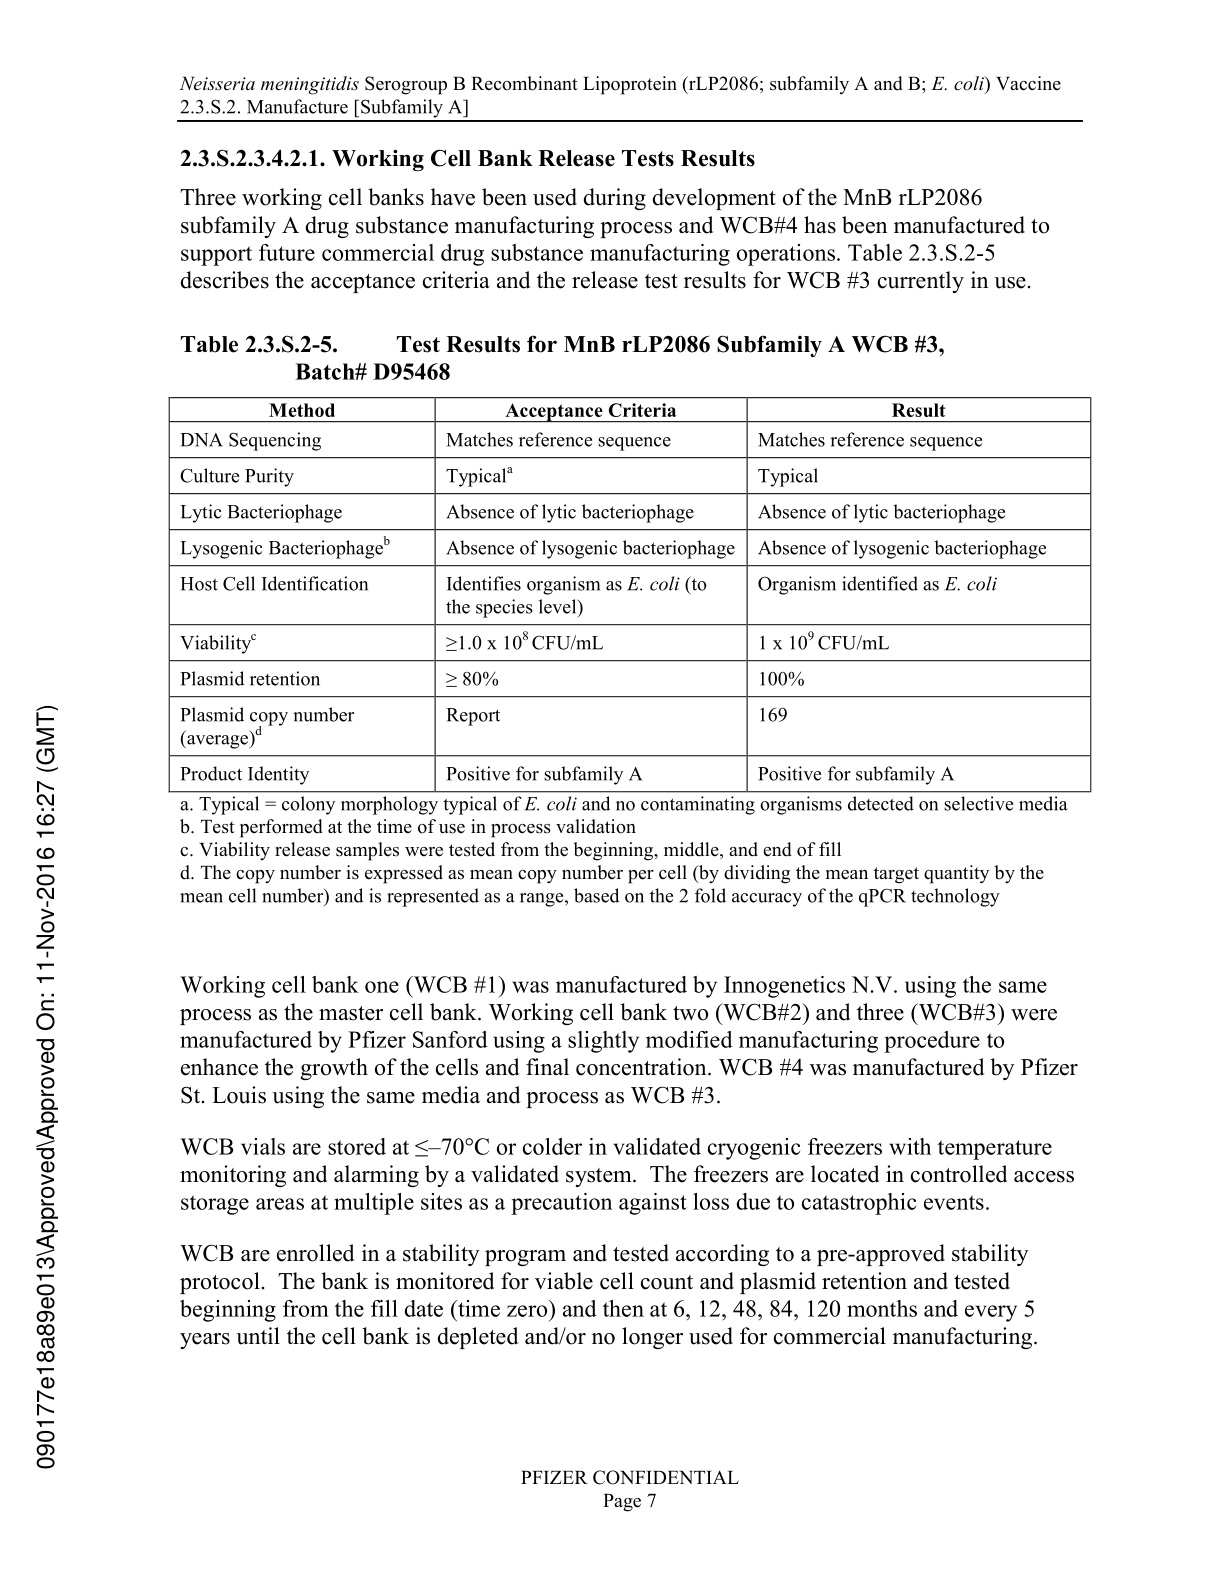full_lined: (168, 396, 1092, 793)
